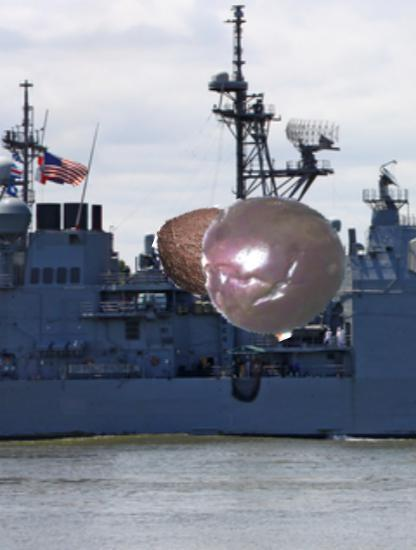Cocos: (154, 195, 269, 310)
Passion: (200, 190, 349, 339)
